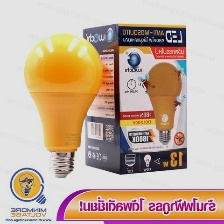book: (81, 18, 191, 175)
light_bulb: (20, 30, 107, 181)
